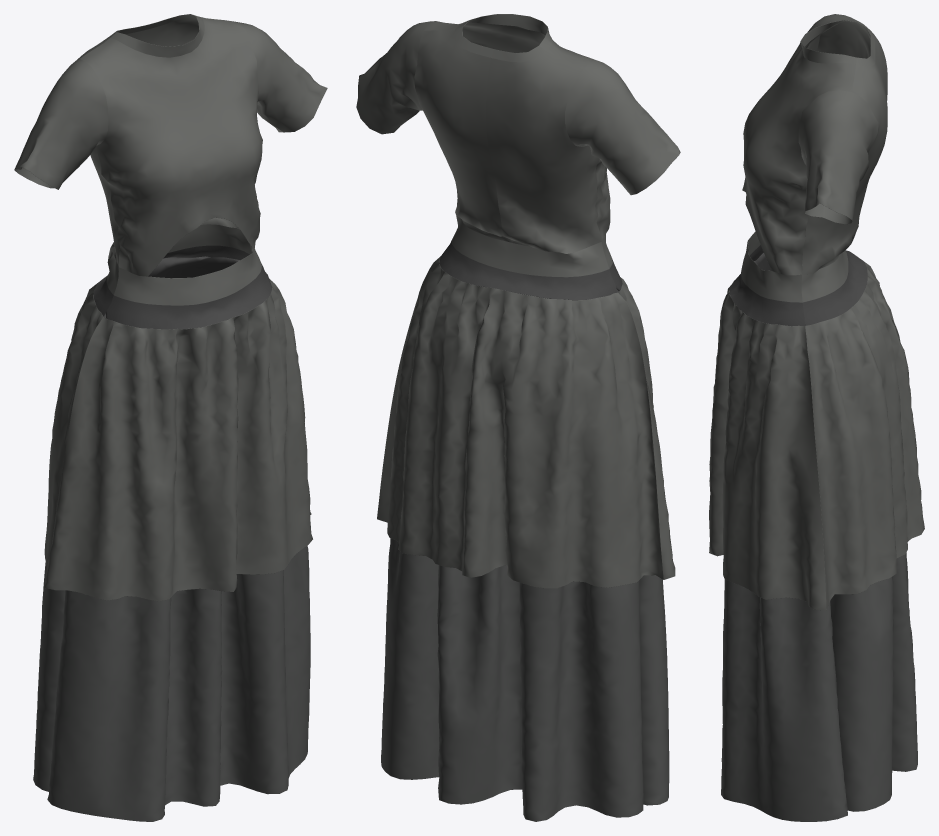
File: Cloth_100_Test.fbx
The picture shows the model from 3 angles, left to right: view 1: azimuth 30°, elevation 25°; view 2: azimuth 150°, elevation 25°; view 3: azimuth 270°, elevation 25°; orthographic projection. The views are drawn at different scales.
Parts seen in each view (by area): view 1: Cloth_100_Test; view 2: Cloth_100_Test; view 3: Cloth_100_Test.
Boxes of the visible parts, x1=… form: Cloth_100_Test: x1=14, y1=14, x2=327, y2=821; Cloth_100_Test: x1=356, y1=14, x2=680, y2=821; Cloth_100_Test: x1=709, y1=14, x2=924, y2=821.
Bounding box in the file's own units: 59.03 × 135 × 36.12.
